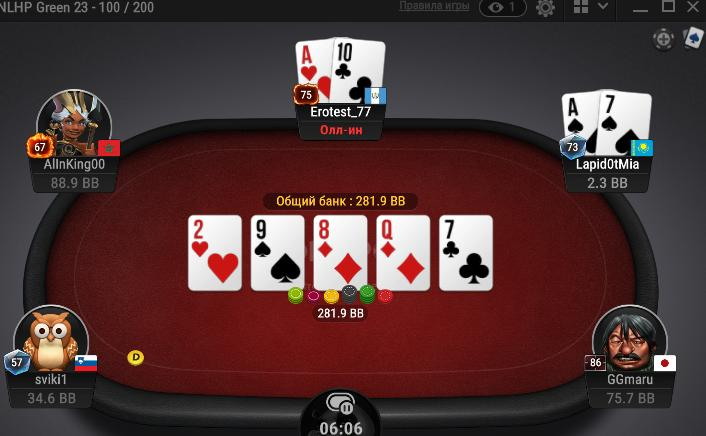10c: (332, 39, 385, 105)
2h: (189, 216, 242, 290)
7c: (441, 215, 494, 290)
7s: (598, 91, 653, 153)
8d: (315, 216, 367, 289)
9s: (252, 216, 304, 290)
Ah: (296, 39, 333, 101)
As: (562, 89, 601, 156)
Qd: (378, 216, 429, 292)
